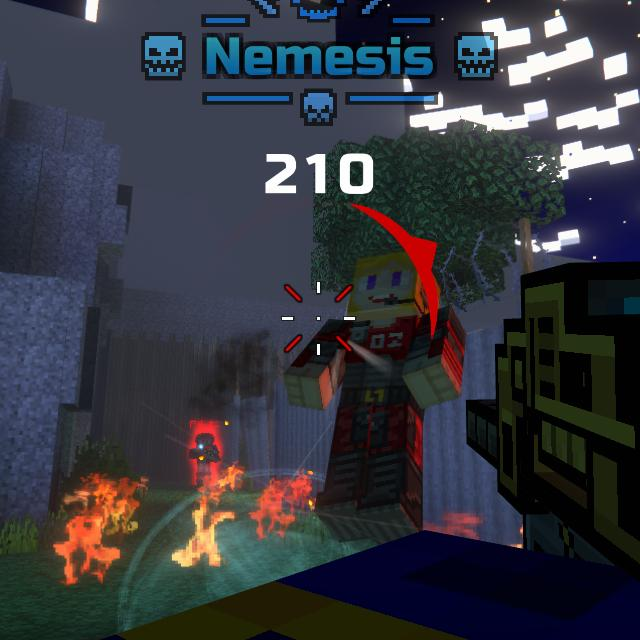Enemy: (189, 433, 221, 486)
